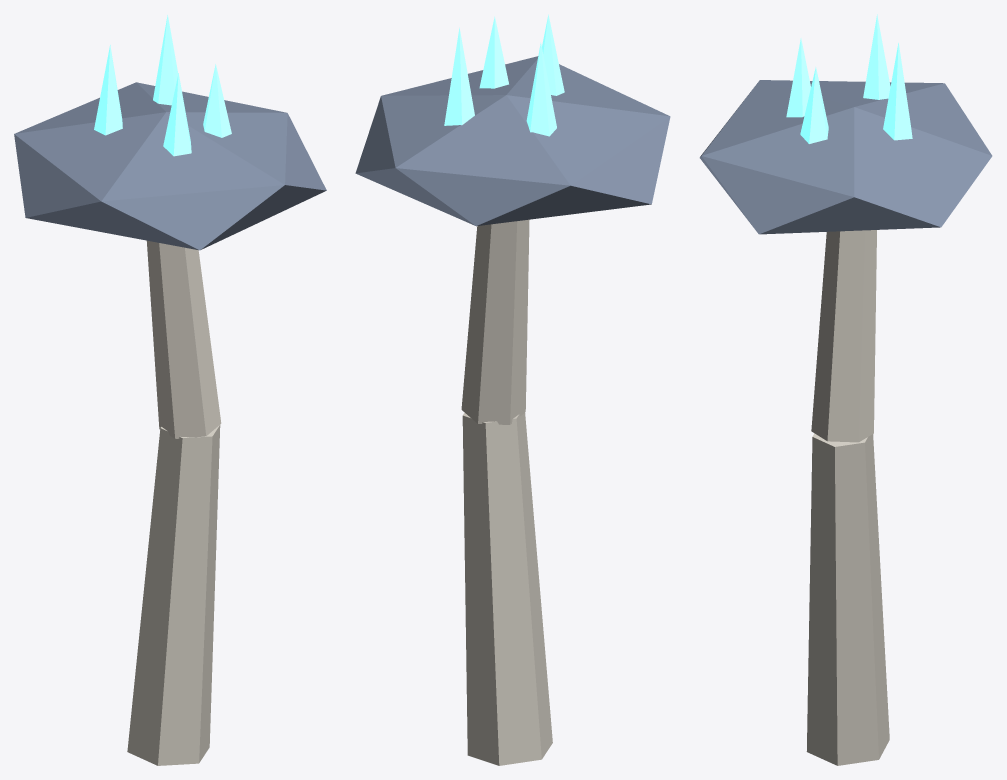
File: arv_fungo_cristal_1_sem_textura.glb
3 views of the same model, side by side, from view 1: azimuth 30°, elevation 25°; view 2: azimuth 150°, elevation 25°; view 3: azimuth 270°, elevation 25° (orthographic). The views are drawn at different scales.
Visible parts, largest first — view 1: arv_fungo_cristal_1; view 2: arv_fungo_cristal_1; view 3: arv_fungo_cristal_1.
Part boxes in pixels (x1,y1,x2,y2): arv_fungo_cristal_1: (14,15,326,765); arv_fungo_cristal_1: (355,14,670,765); arv_fungo_cristal_1: (699,14,992,765).
Bounding box in the file's own units: 0.7776 × 2.02 × 0.7482.
